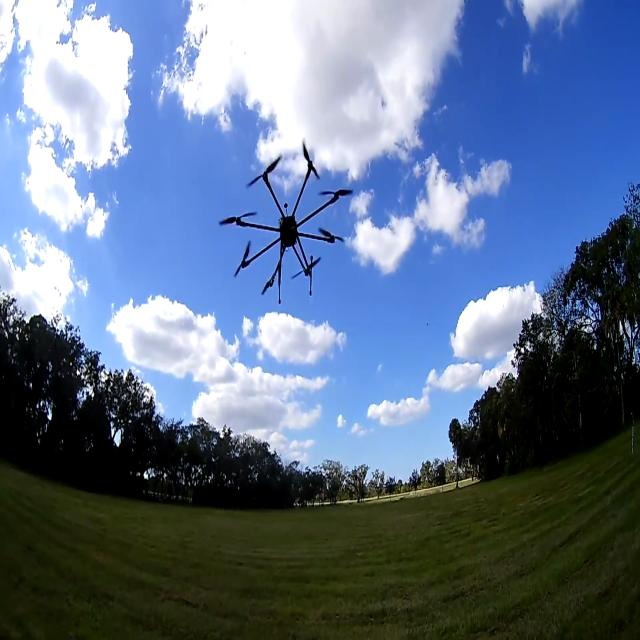drone: (207, 116, 374, 328)
